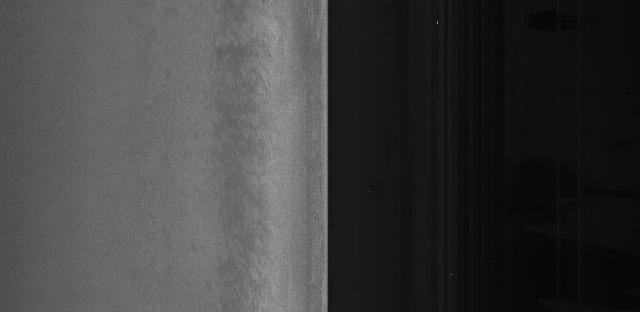silk_spot: (215, 119, 288, 216)
